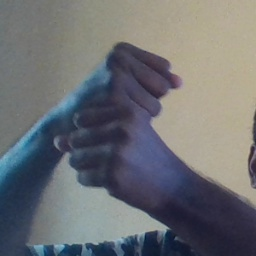G: (57, 37, 183, 200)
